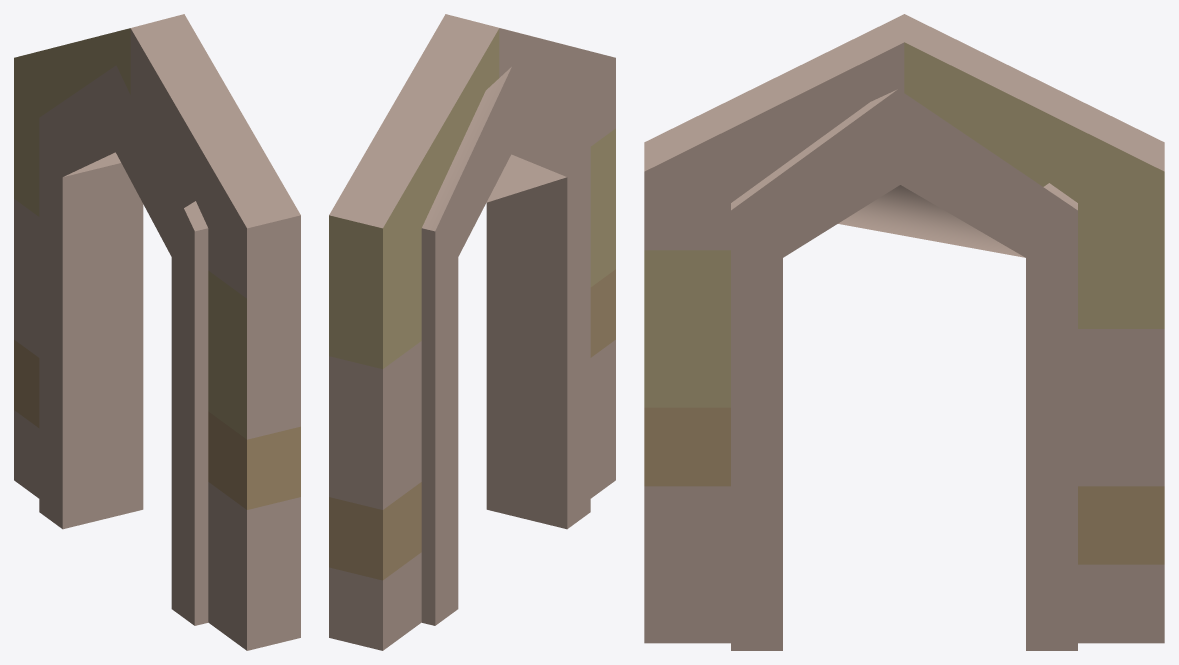
Rendered from arched_door.FBX.
The picture shows the model from 3 angles, left to right: view 1: azimuth 30°, elevation 25°; view 2: azimuth 150°, elevation 25°; view 3: azimuth 270°, elevation 25°; orthographic projection. The views are drawn at different scales.
Parts seen in each view (by area): view 1: Cube.039; view 2: Cube.039; view 3: Cube.039.
Part boxes in pixels (x1,y1,x2,y2): Cube.039: (14, 14, 300, 650); Cube.039: (329, 14, 615, 650); Cube.039: (644, 14, 1164, 650).
Size of the model in its own units: 23.62 by 151 by 118.
